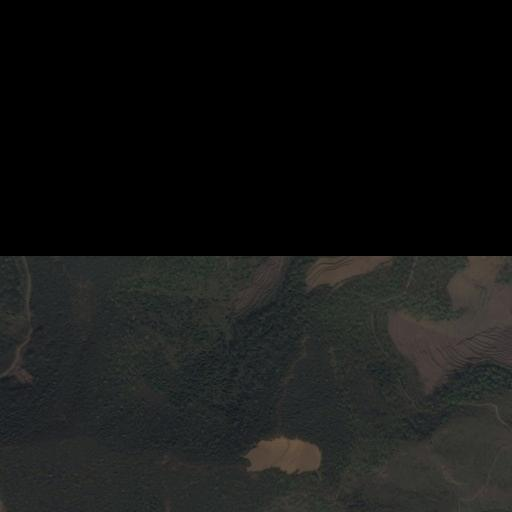landslide: (242, 437, 322, 476)
